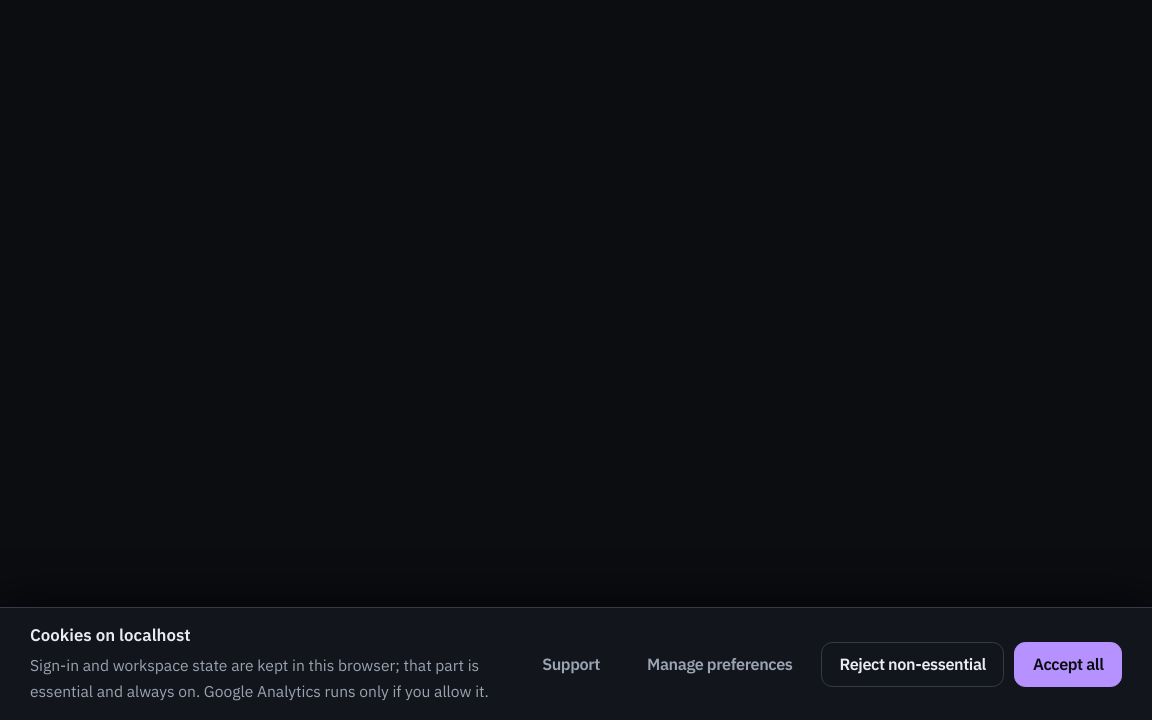
preferences › names analytics as Google Analytics and offers no attribution
Step 1. Click the button "Manage preferences" → coordinates (720, 664), box x1=628 y1=642 x2=811 y2=687
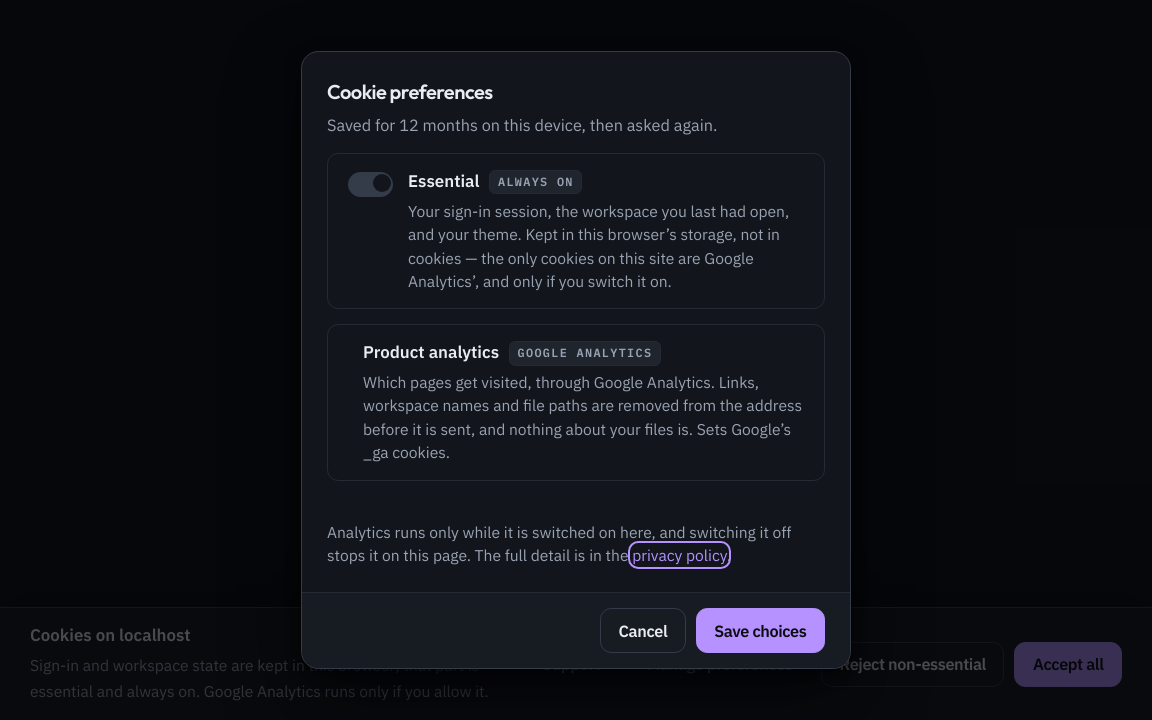
Expected: the text "GOOGLE ANALYTICS" is shown, x1=509 y1=341 x2=661 y2=366
